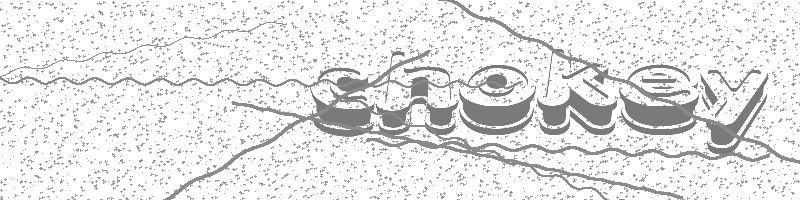c: (309, 58, 378, 136)
e: (619, 59, 700, 136)
h: (378, 50, 455, 133)
k: (538, 43, 618, 135)
o: (457, 60, 539, 136)
y: (698, 66, 770, 151)
